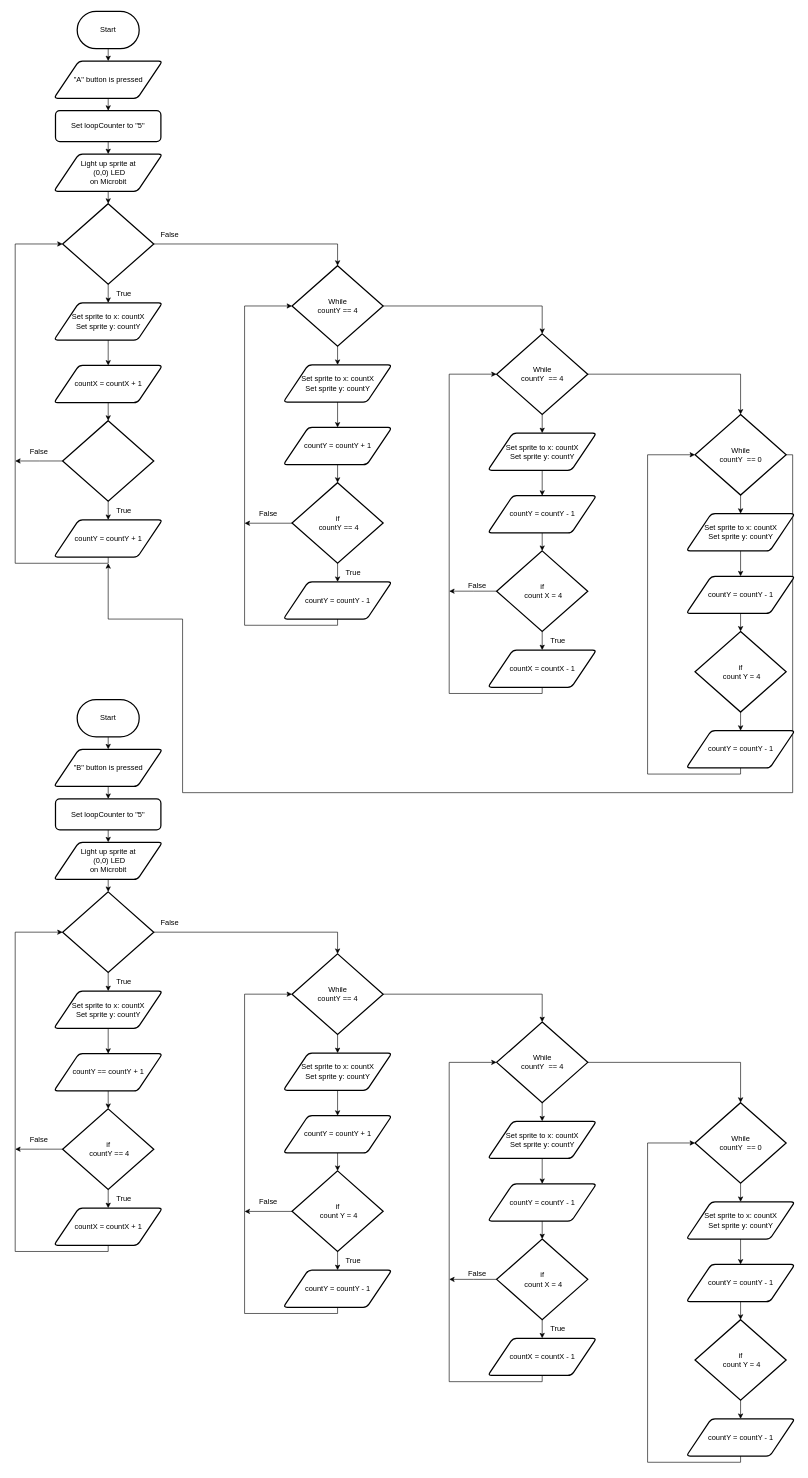
Image size: 808x1478. Some labels were removed from this diagram. Here are the shapes that lost their labels. From the top down, the centre of each, then its label:
At (108,244): "While count == 0".
At (108,461): "if countX == 4".
At (108,932): "While countX == 0".
